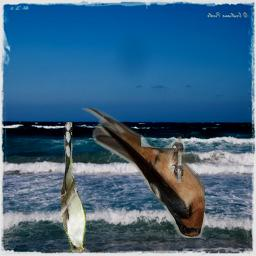Cuckoo: (61, 122, 86, 252)
Swallow: (81, 108, 205, 238)
